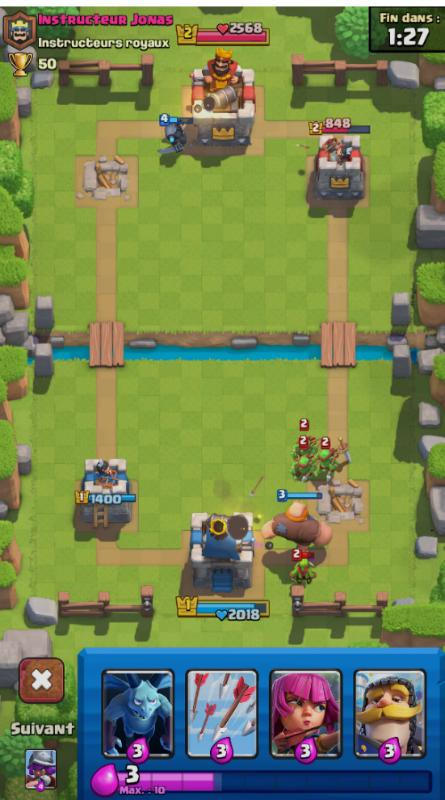geant: (265, 499, 335, 555)
gobelin: (283, 551, 327, 589)
gobelin_lances: (285, 446, 322, 482), (314, 441, 339, 480), (294, 434, 324, 462)
mini_PEKKA: (147, 116, 194, 157)
